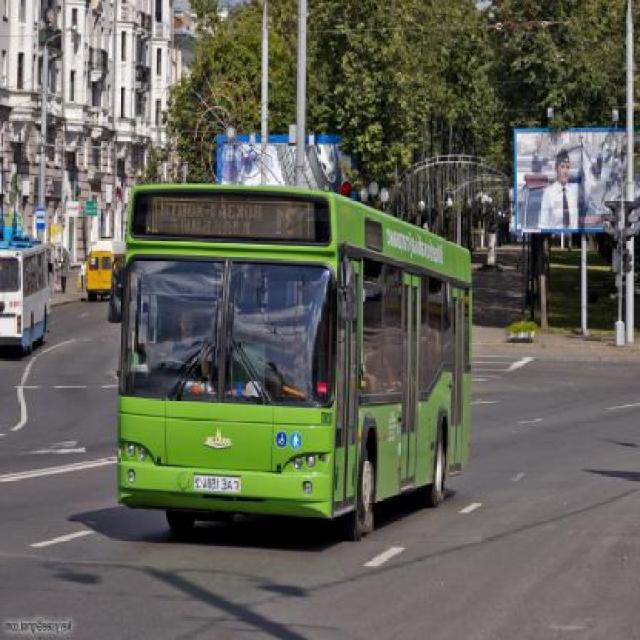bus: (120, 184, 472, 535)
